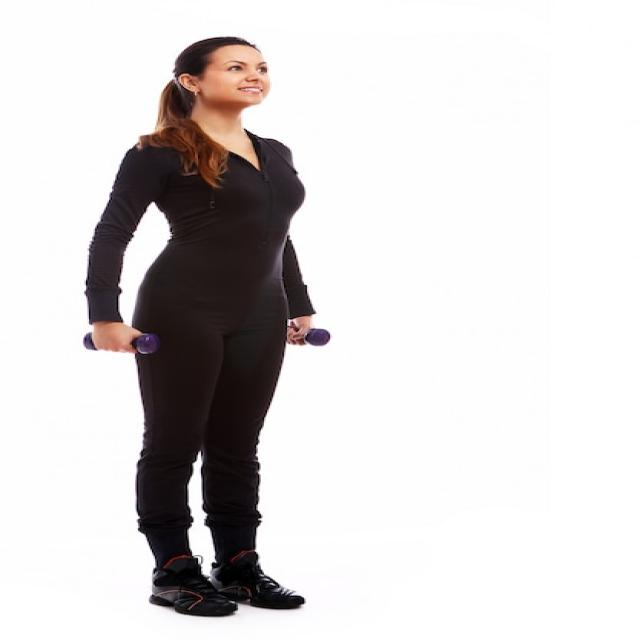Person: (86, 34, 328, 616)
